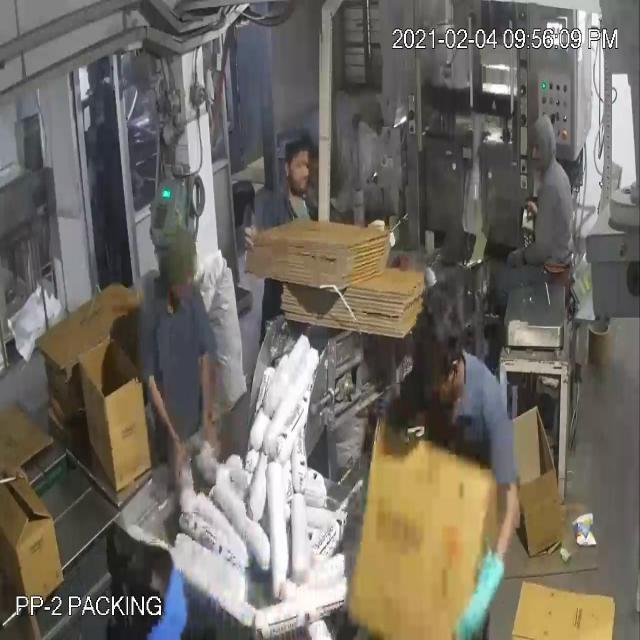No_Gloves: (42, 116, 478, 582)
